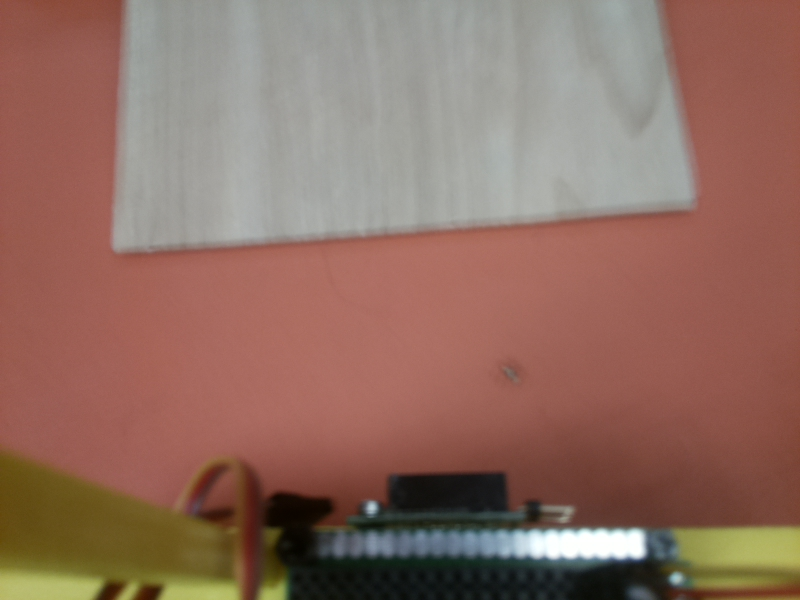slope: (102, 1, 696, 255)
